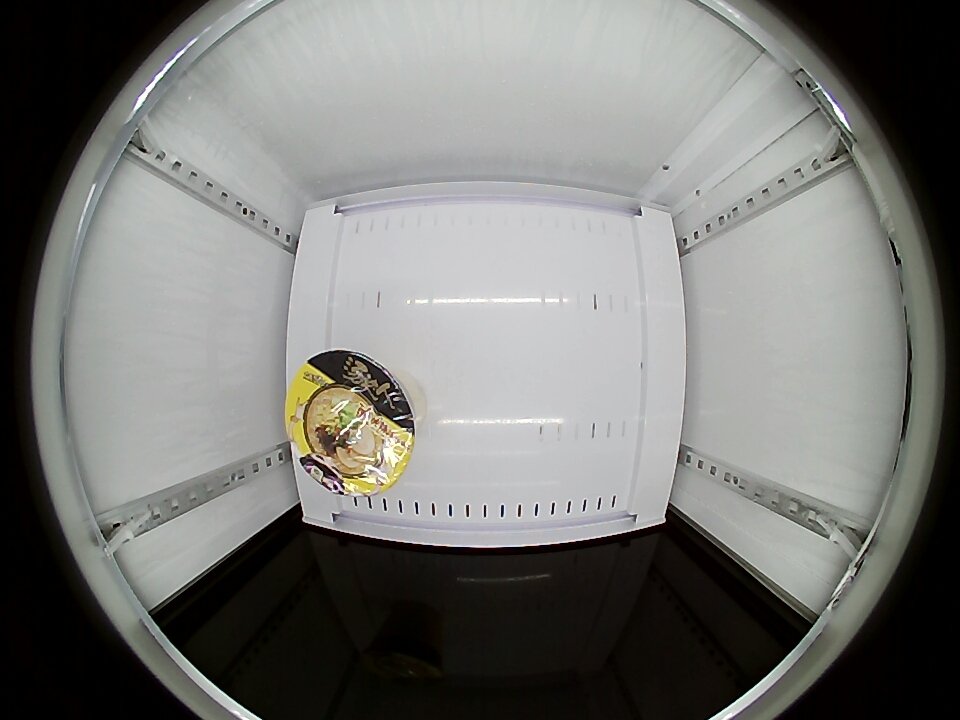tangdaren2: (286, 351, 419, 496)
